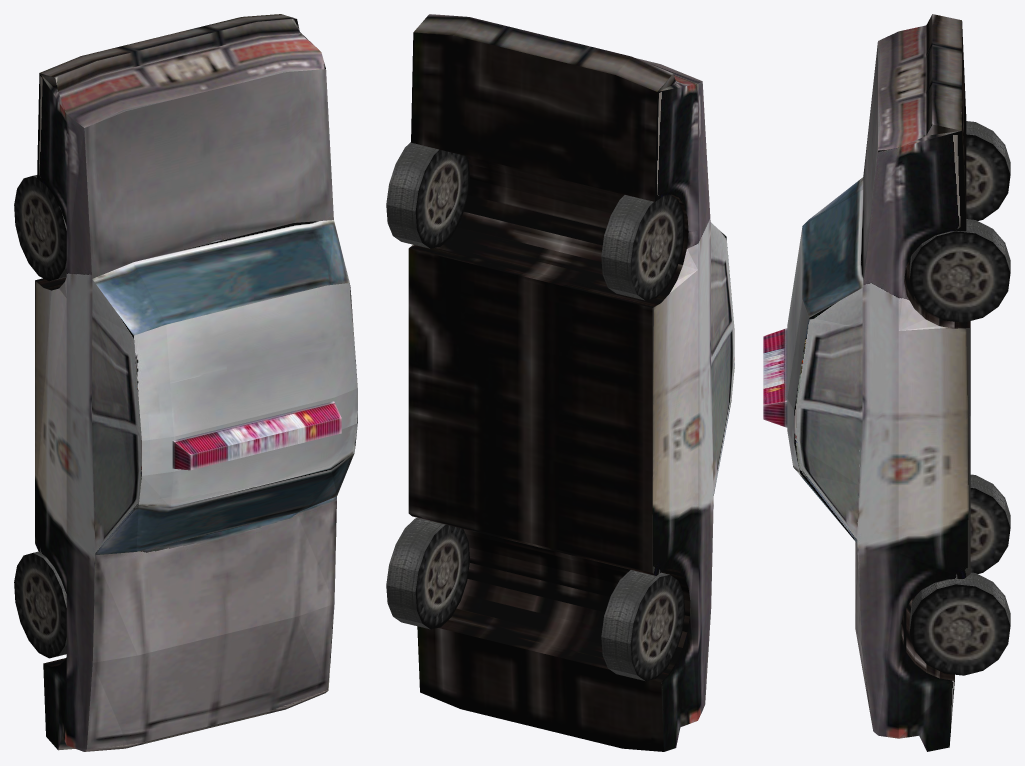
The model's file is carpack_cop_wtf.obj.
3 views of the same model, side by side, from view 1: azimuth 30°, elevation 25°; view 2: azimuth 150°, elevation 25°; view 3: azimuth 270°, elevation 25° (orthographic). The views are drawn at different scales.
Parts seen in each view (by area): view 1: group1; view 2: group1; view 3: group1.
Part boxes in pixels (x1=…): group1: x1=14, y1=14, x2=357, y2=751; group1: x1=386, y1=14, x2=734, y2=751; group1: x1=763, y1=14, x2=1010, y2=751.
Bounding box in the file's own units: 257 × 660 × 231.
